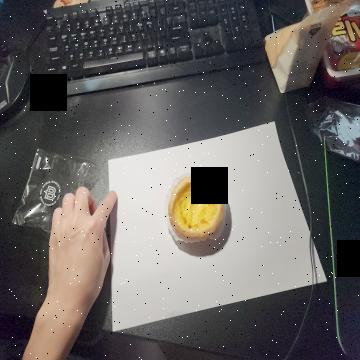EggTart: (168, 173, 226, 243)
